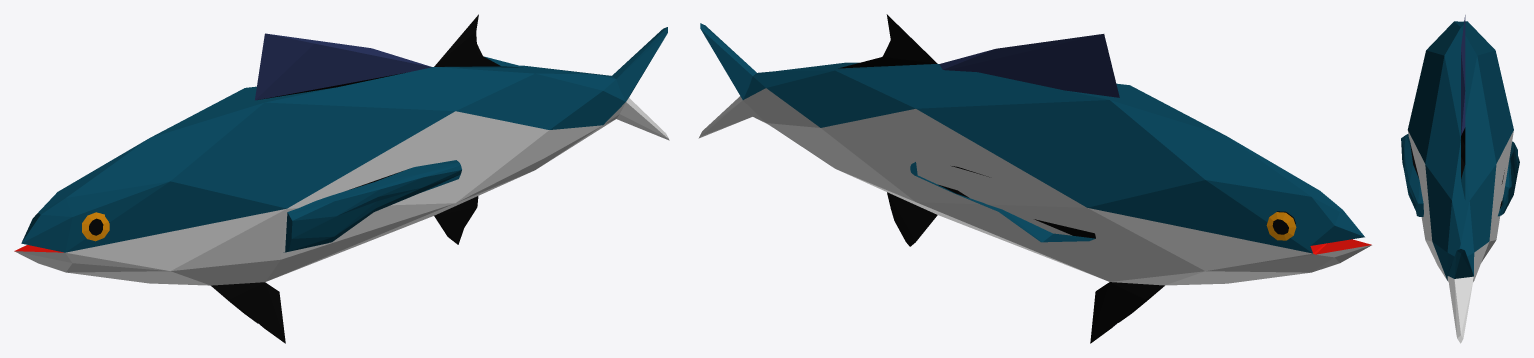
File: Fish.fbx
3 views of the same model, side by side, from view 1: azimuth 30°, elevation 25°; view 2: azimuth 150°, elevation 25°; view 3: azimuth 270°, elevation 25° (orthographic). The views are drawn at different scales.
Visible parts, largest first — view 1: Circle; view 2: Circle; view 3: Circle.
Part boxes in pixels (x1,y1,x2,y2): Circle: (14,14,669,343); Circle: (698,14,1371,343); Circle: (1401,15,1519,343).
Bounding box in the file's own units: 359 × 155 × 67.91.
